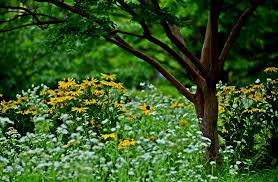flower: (17, 75, 143, 150)
forest: (6, 4, 278, 180)
tree: (80, 1, 272, 163)
